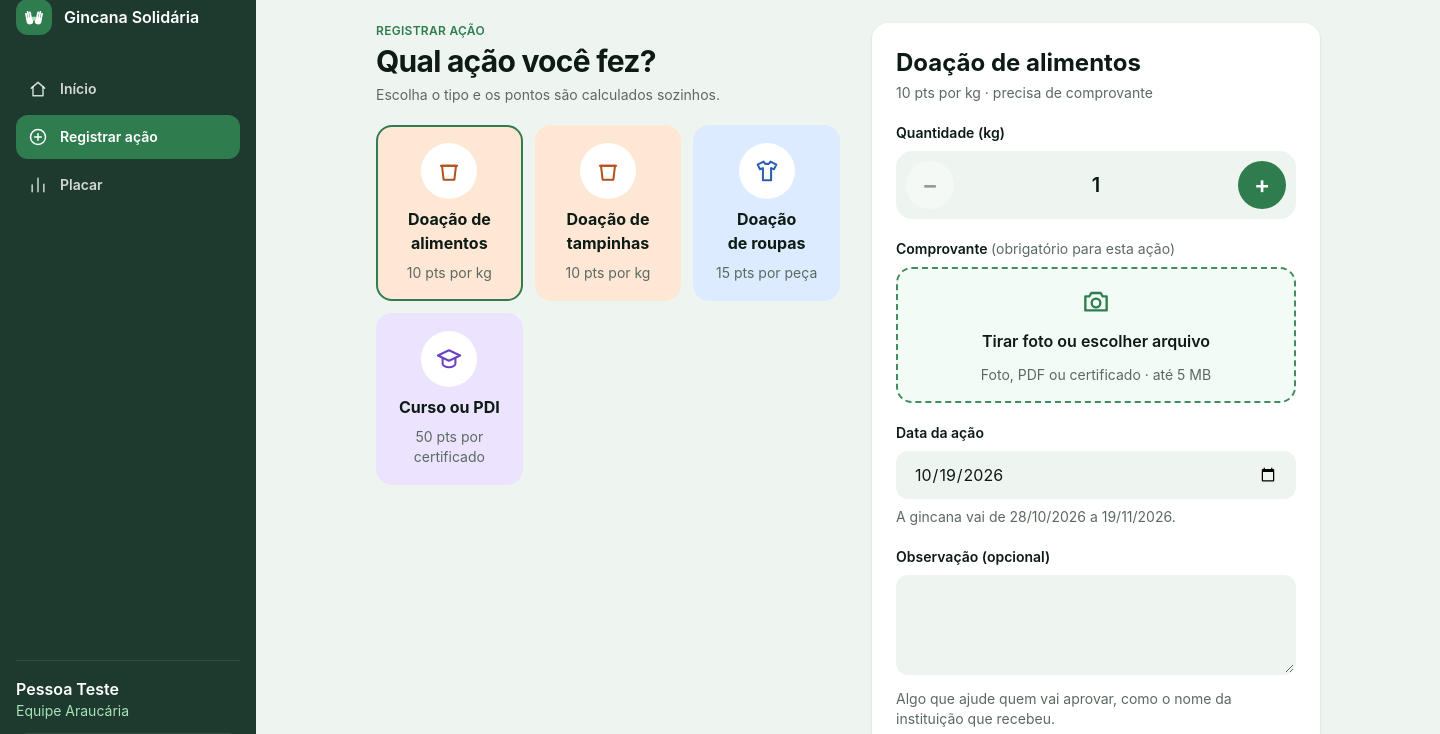
Test: Registrar ação (US06 e US07) › prévia de pontos › mostra os pontos ao abrir e atualiza quando a pessoa muda a quantidade
expect the heading "Doação de alimentos" is shown: met, box [896, 47, 1153, 79]
Replace the text in the field labelled "Quantidade (kg)" with "12" at {"x": 1096, "y": 185}, box [962, 161, 1230, 209]
(page scrolled)
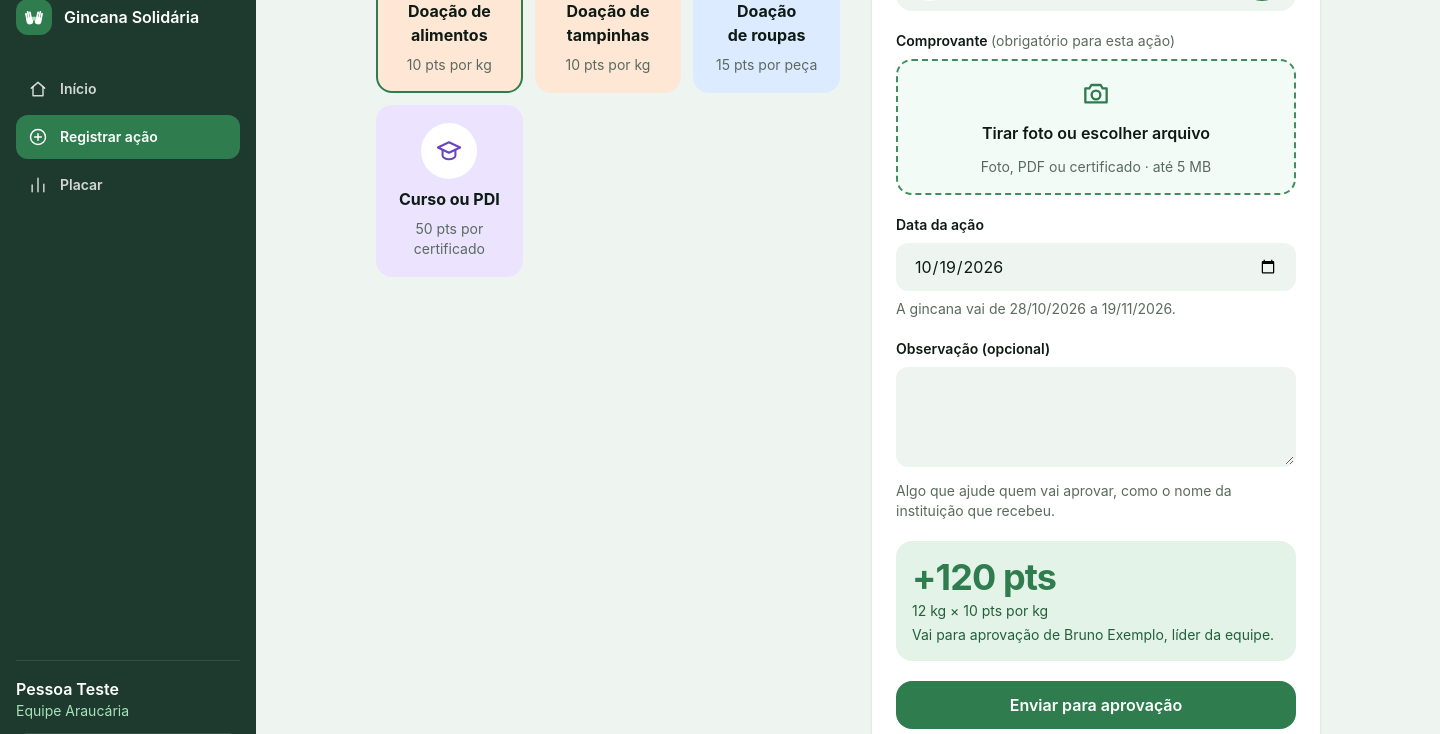
expect the text "+120 pts" is shown: met, box [911, 554, 1150, 599]
expect the text "12 kg × 10 pts por kg" is shown: met, box [912, 602, 1048, 619]
